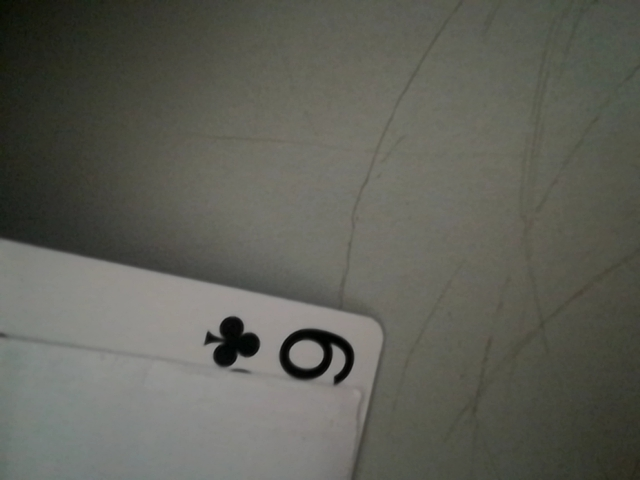mh 6: (190, 307, 367, 394)
